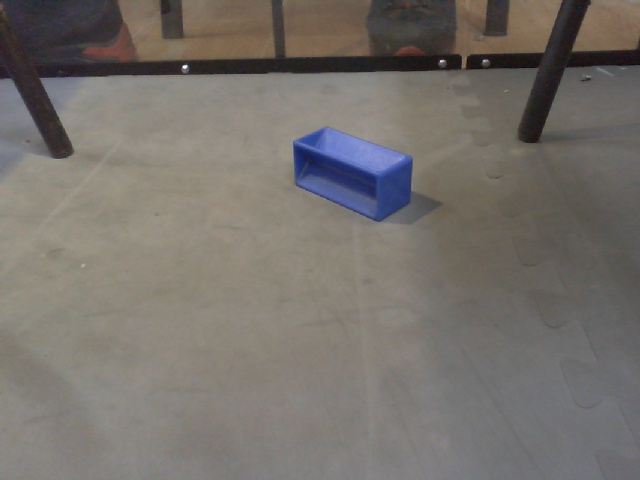BlueSample: (289, 122, 416, 225)
